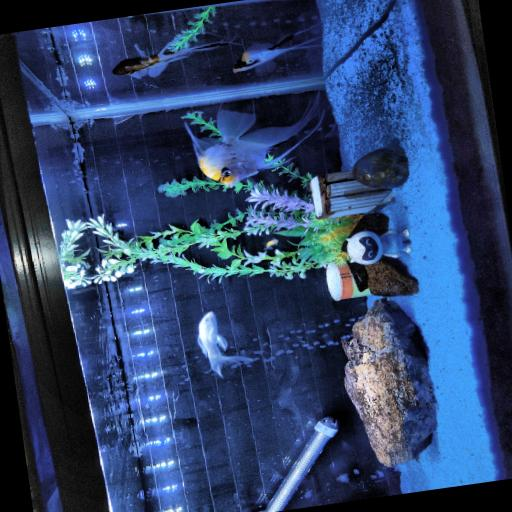Fish: (186, 99, 322, 187), (113, 42, 230, 78), (234, 24, 321, 72), (198, 312, 252, 376), (265, 239, 278, 250)
